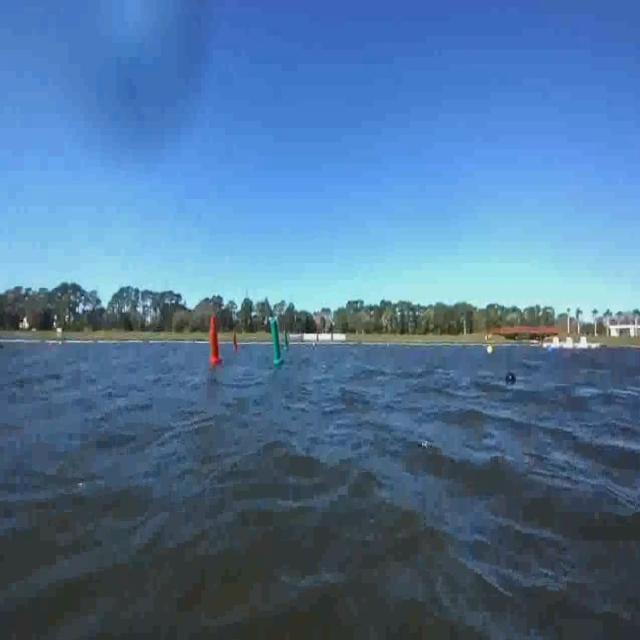black-buoy: (504, 369, 516, 386)
green-column-buoy: (270, 319, 284, 366), (284, 330, 290, 350)
red-column-buoy: (207, 314, 223, 364), (233, 332, 241, 353)
yellow-buoy: (487, 343, 495, 356)
